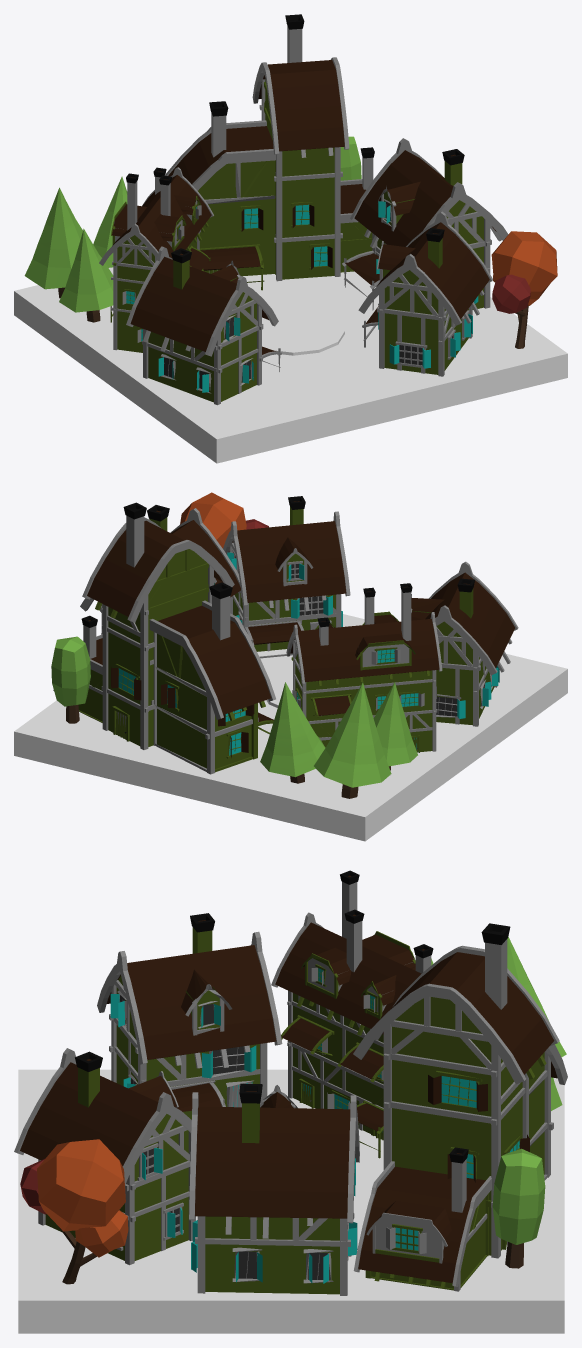
Rendered from Pueblo2.FBX.
3 renders of one model, top to bottom at view 1: azimuth 30°, elevation 25°; view 2: azimuth 150°, elevation 25°; view 3: azimuth 270°, elevation 25°, orthographic. The views are drawn at different scales.
Parts seen in each view (by area): view 1: Box027, pCube4223, pCube1232.008, pCube1232.007, pCube1232.006, pCube3448.002, pCylinder356.023, group267_pCylinder347.019, Cylinder006, group267_pCylinder347.018, pCube4926.003, group267_pCylinder347.017 (+1 smaller); view 2: pCube4223, Box027, pCube3448.002, pCube1232.007, pCube1232.008, group267_pCylinder347.019, group267_pCylinder347.017, pCylinder366.014, pCube1232.006, group267_pCylinder347.018, pCylinder356.023, pCube4926.003 (+1 smaller); view 3: Box027, pCube4223, pCube1232.006, pCube1232.008, pCube3448.002, pCube1232.007, pCube4926.003, pCylinder356.023, pCylinder366.014, group267_pCylinder347.019.
Part boxes in pixels (left/top/right/bottom): Box027: left=14, top=267, right=567, bottom=463; pCube4223: left=165, top=14, right=349, bottom=290; pCube1232.008: left=126, top=246, right=281, bottom=405; pCube1232.007: left=358, top=211, right=492, bottom=376; pCube1232.006: left=342, top=138, right=508, bottom=310; pCube3448.002: left=99, top=167, right=213, bottom=352; pCylinder356.023: left=491, top=231, right=557, bottom=348; group267_pCylinder347.019: left=24, top=187, right=101, bottom=298; Cylinder006: left=262, top=309, right=344, bottom=355; group267_pCylinder347.018: left=59, top=228, right=113, bottom=322; pCube4926.003: left=340, top=147, right=374, bottom=272; group267_pCylinder347.017: left=93, top=176, right=127, bottom=267; pCube4223: left=82, top=502, right=275, bottom=774; Box027: left=14, top=614, right=567, bottom=841; pCube3448.002: left=286, top=583, right=442, bottom=752; pCube1232.007: left=223, top=496, right=350, bottom=658; pCube1232.008: left=411, top=561, right=518, bottom=726; group267_pCylinder347.019: left=314, top=682, right=391, bottom=798; group267_pCylinder347.017: left=260, top=682, right=325, bottom=783; pCylinder366.014: left=51, top=636, right=90, bottom=723; pCube1232.006: left=80, top=505, right=241, bottom=634; group267_pCylinder347.018: left=373, top=682, right=417, bottom=770; pCylinder356.023: left=180, top=492, right=268, bottom=548; pCube4926.003: left=53, top=615, right=102, bottom=722; Box027: left=18, top=1069, right=564, bottom=1333; pCube4223: left=353, top=923, right=567, bottom=1258; pCube1232.006: left=189, top=1083, right=359, bottom=1295; pCube1232.008: left=97, top=913, right=282, bottom=1119; pCube3448.002: left=271, top=870, right=433, bottom=1158; pCube1232.007: left=14, top=1048, right=195, bottom=1265; pCube4926.003: left=353, top=1147, right=491, bottom=1291; pCylinder356.023: left=20, top=1139, right=128, bottom=1284; pCylinder366.014: left=492, top=1148, right=545, bottom=1268; group267_pCylinder347.019: left=507, top=937, right=566, bottom=1057.
Size of the model in its own units: 32.66 by 21.56 by 31.02.
